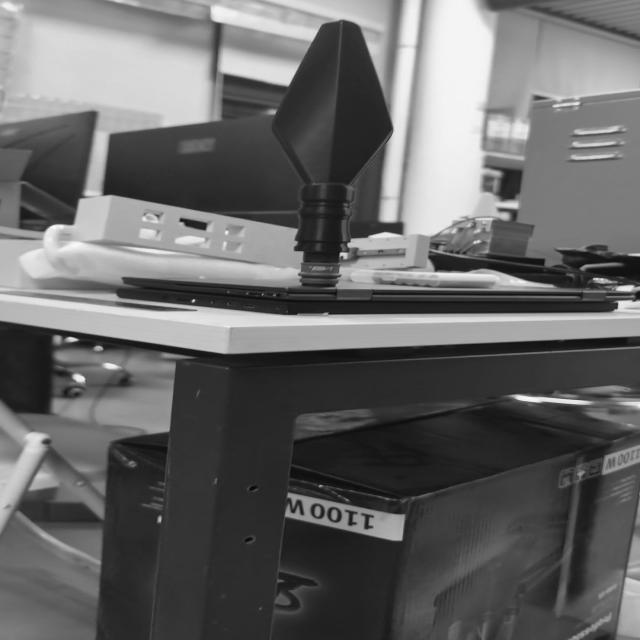base: (292, 259, 348, 290)
